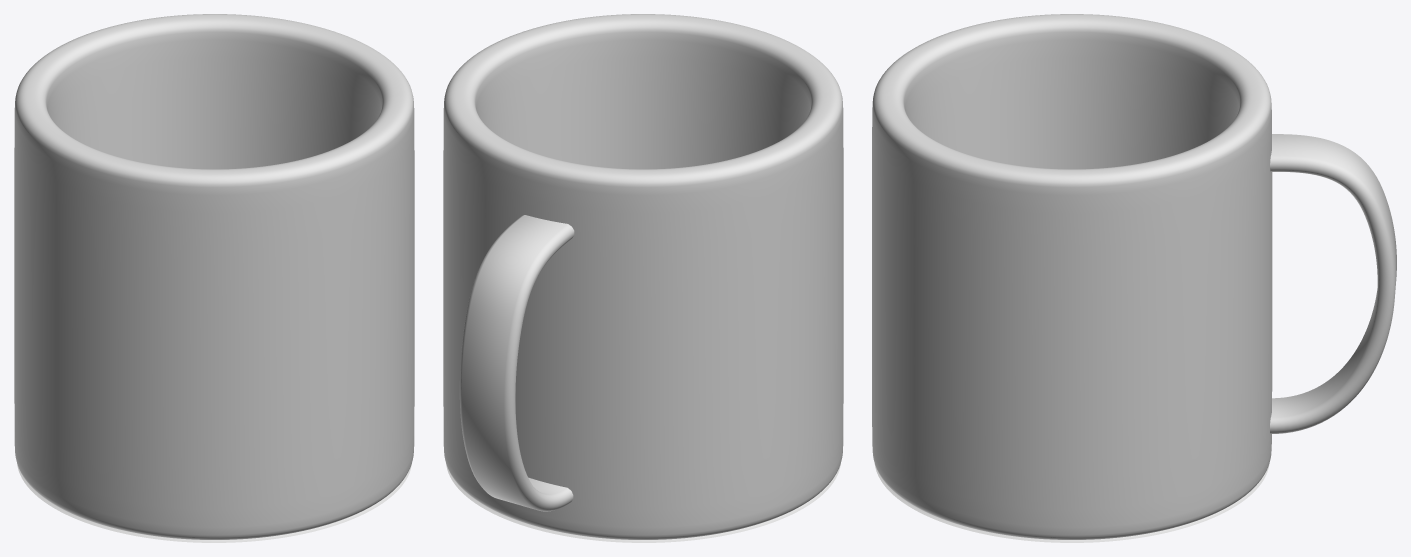
The model's file is CupCoffee.glb.
3 views of the same model, side by side, from view 1: azimuth 30°, elevation 25°; view 2: azimuth 150°, elevation 25°; view 3: azimuth 270°, elevation 25° (orthographic).
Parts seen in each view (by area): view 1: CupCoffee_Baked; view 2: CupCoffee_Baked; view 3: CupCoffee_Baked.
Part boxes in pixels (left/top/right/bottom): CupCoffee_Baked: left=14, top=14, right=414, bottom=542; CupCoffee_Baked: left=443, top=14, right=843, bottom=542; CupCoffee_Baked: left=872, top=14, right=1396, bottom=542.
Bounding box in the file's own units: 1.99 × 2 × 2.61.
1 material, 1 textured.
